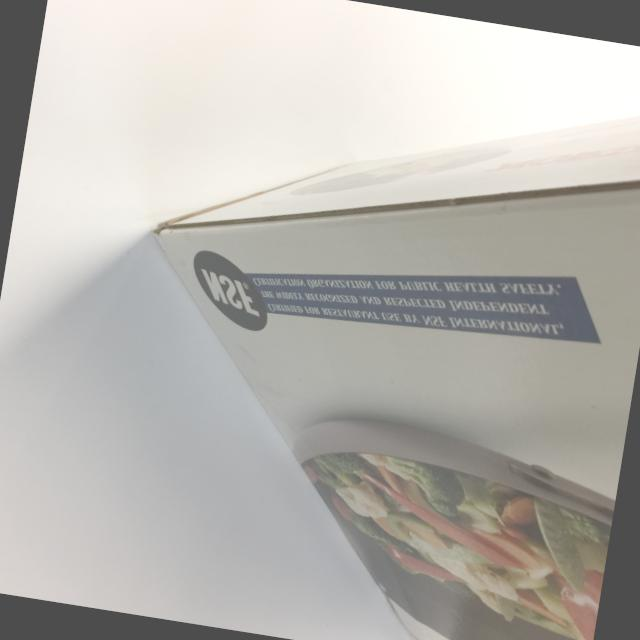Cardboard: (79, 24, 640, 640)
